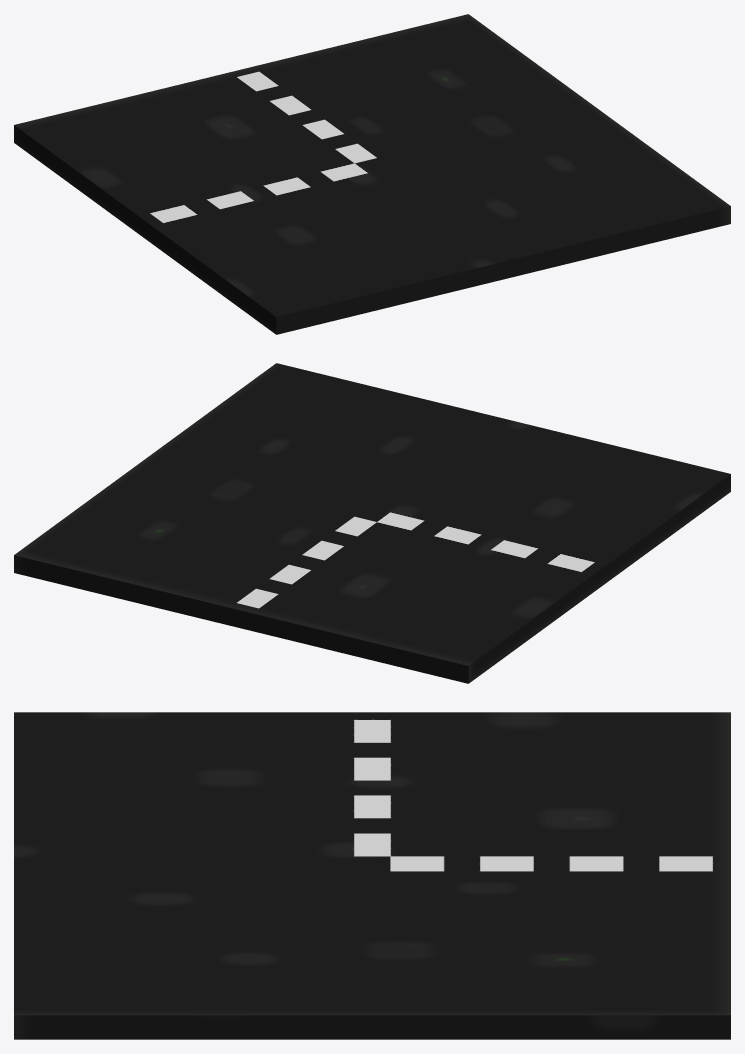
The model's file is road_8x8_corner_00.glb.
The picture shows the model from 3 angles, top to bottom: view 1: azimuth 30°, elevation 25°; view 2: azimuth 150°, elevation 25°; view 3: azimuth 270°, elevation 25°; orthographic projection. The views are drawn at different scales.
Visible parts, largest first — view 1: road_8x8_corner_00; view 2: road_8x8_corner_00; view 3: road_8x8_corner_00.
Part boxes in pixels (bbox=[...]): road_8x8_corner_00: bbox=[14, 14, 730, 334]; road_8x8_corner_00: bbox=[14, 363, 730, 683]; road_8x8_corner_00: bbox=[14, 712, 730, 1039].
Size of what is drawn, in the model's own units: 8 by 0.3 by 8.
Materials: 1 (1 with a texture image).
